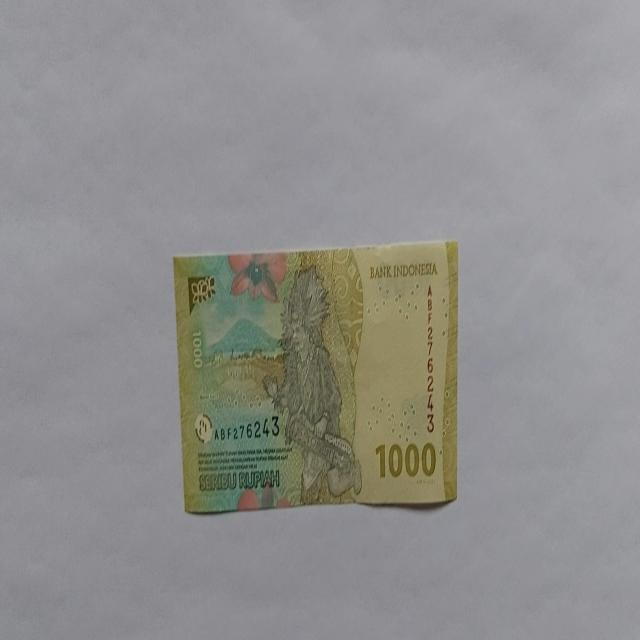seribu rupiah kertas: (172, 240, 460, 514)
